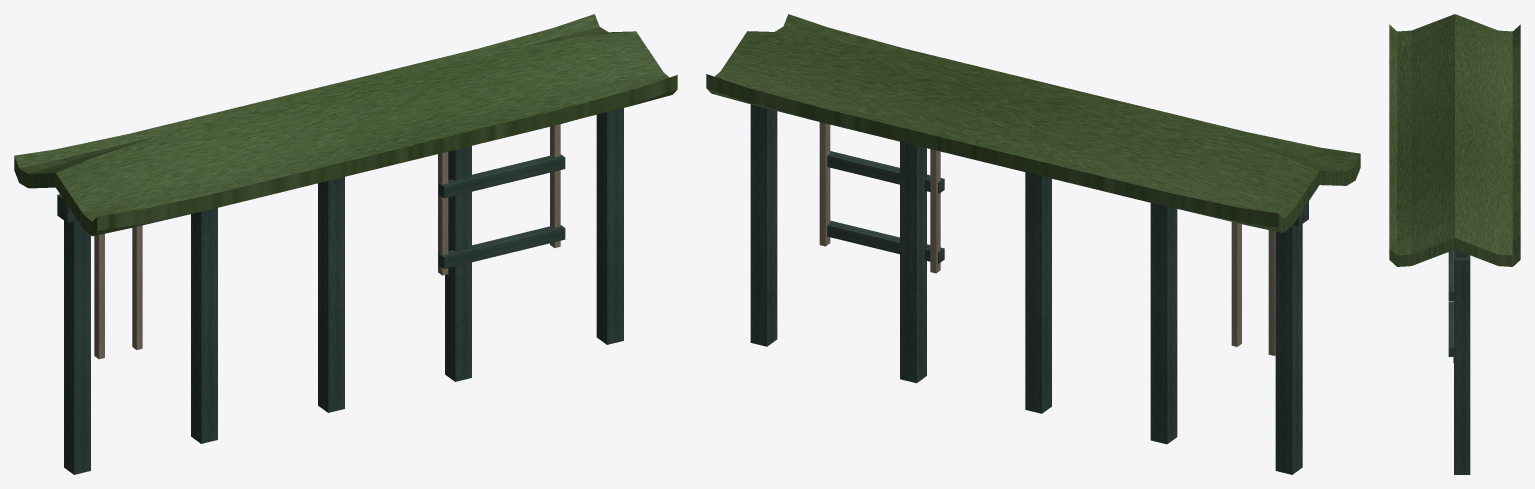
3 views of the same model, side by side, from view 1: azimuth 30°, elevation 25°; view 2: azimuth 150°, elevation 25°; view 3: azimuth 270°, elevation 25° (orthographic). The views are drawn at different scales.
Visible parts, largest first — view 1: garrison_part_0001, garrison_part_0000, garrison_part_0002; view 2: garrison_part_0001, garrison_part_0000, garrison_part_0002; view 3: garrison_part_0001, garrison_part_0000, garrison_part_0002.
Part boxes in pixels (bbox=[...]): garrison_part_0001: bbox=[14, 14, 677, 236]; garrison_part_0000: bbox=[64, 108, 623, 474]; garrison_part_0002: bbox=[94, 124, 565, 359]; garrison_part_0001: bbox=[706, 14, 1360, 232]; garrison_part_0000: bbox=[750, 104, 1302, 474]; garrison_part_0002: bbox=[819, 122, 1275, 355]; garrison_part_0001: bbox=[1389, 14, 1520, 276]; garrison_part_0000: bbox=[1454, 277, 1470, 474]; garrison_part_0002: bbox=[1448, 250, 1453, 363].
Bounding box in the file's own units: 585 × 307 × 145.
